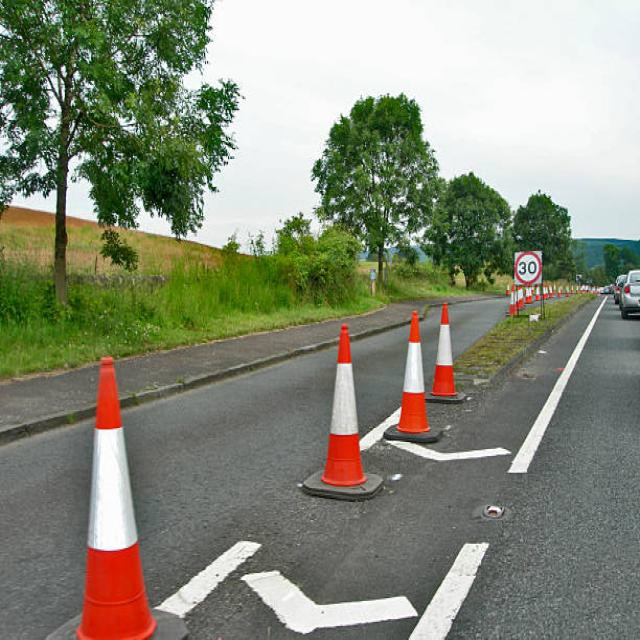Traffic Cone: (47, 352, 190, 640), (305, 316, 387, 500), (378, 300, 448, 455), (426, 295, 471, 413)
